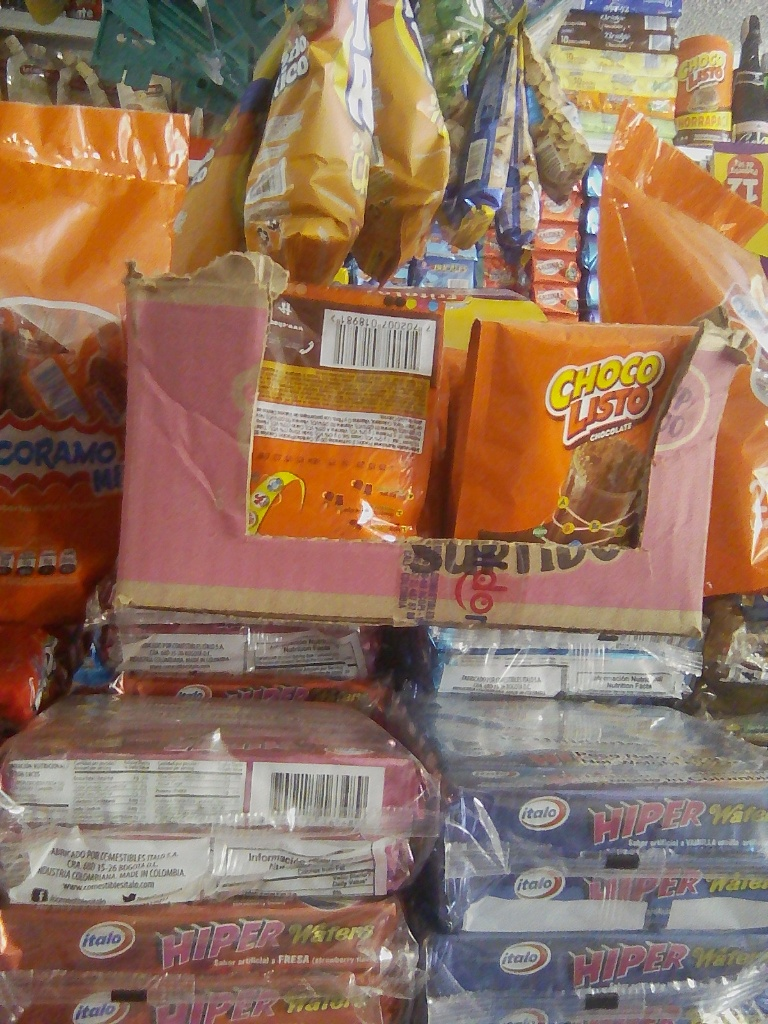COL0170103TRR00100: (671, 30, 733, 144)
